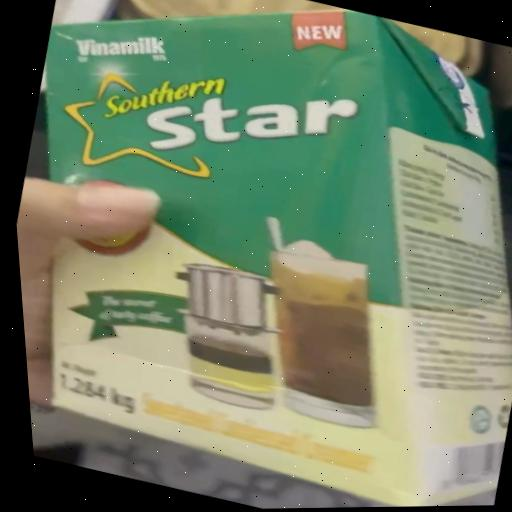ly_giay: (45, 9, 512, 507)
